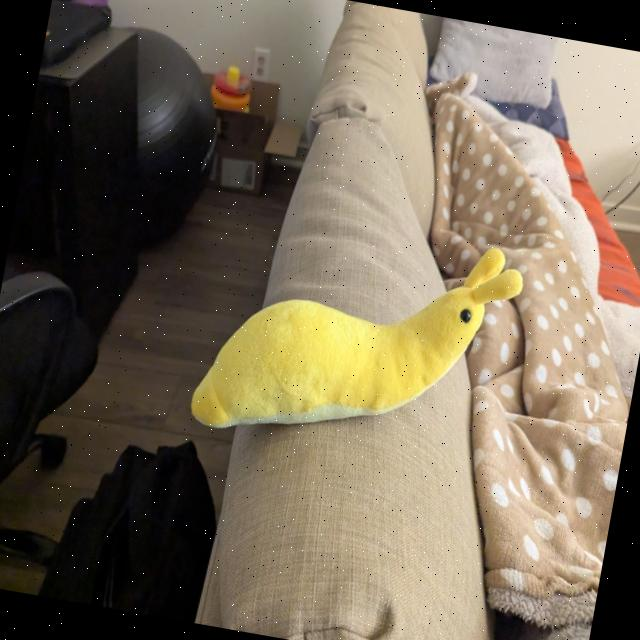banana-slug-toy: (182, 194, 540, 484)
